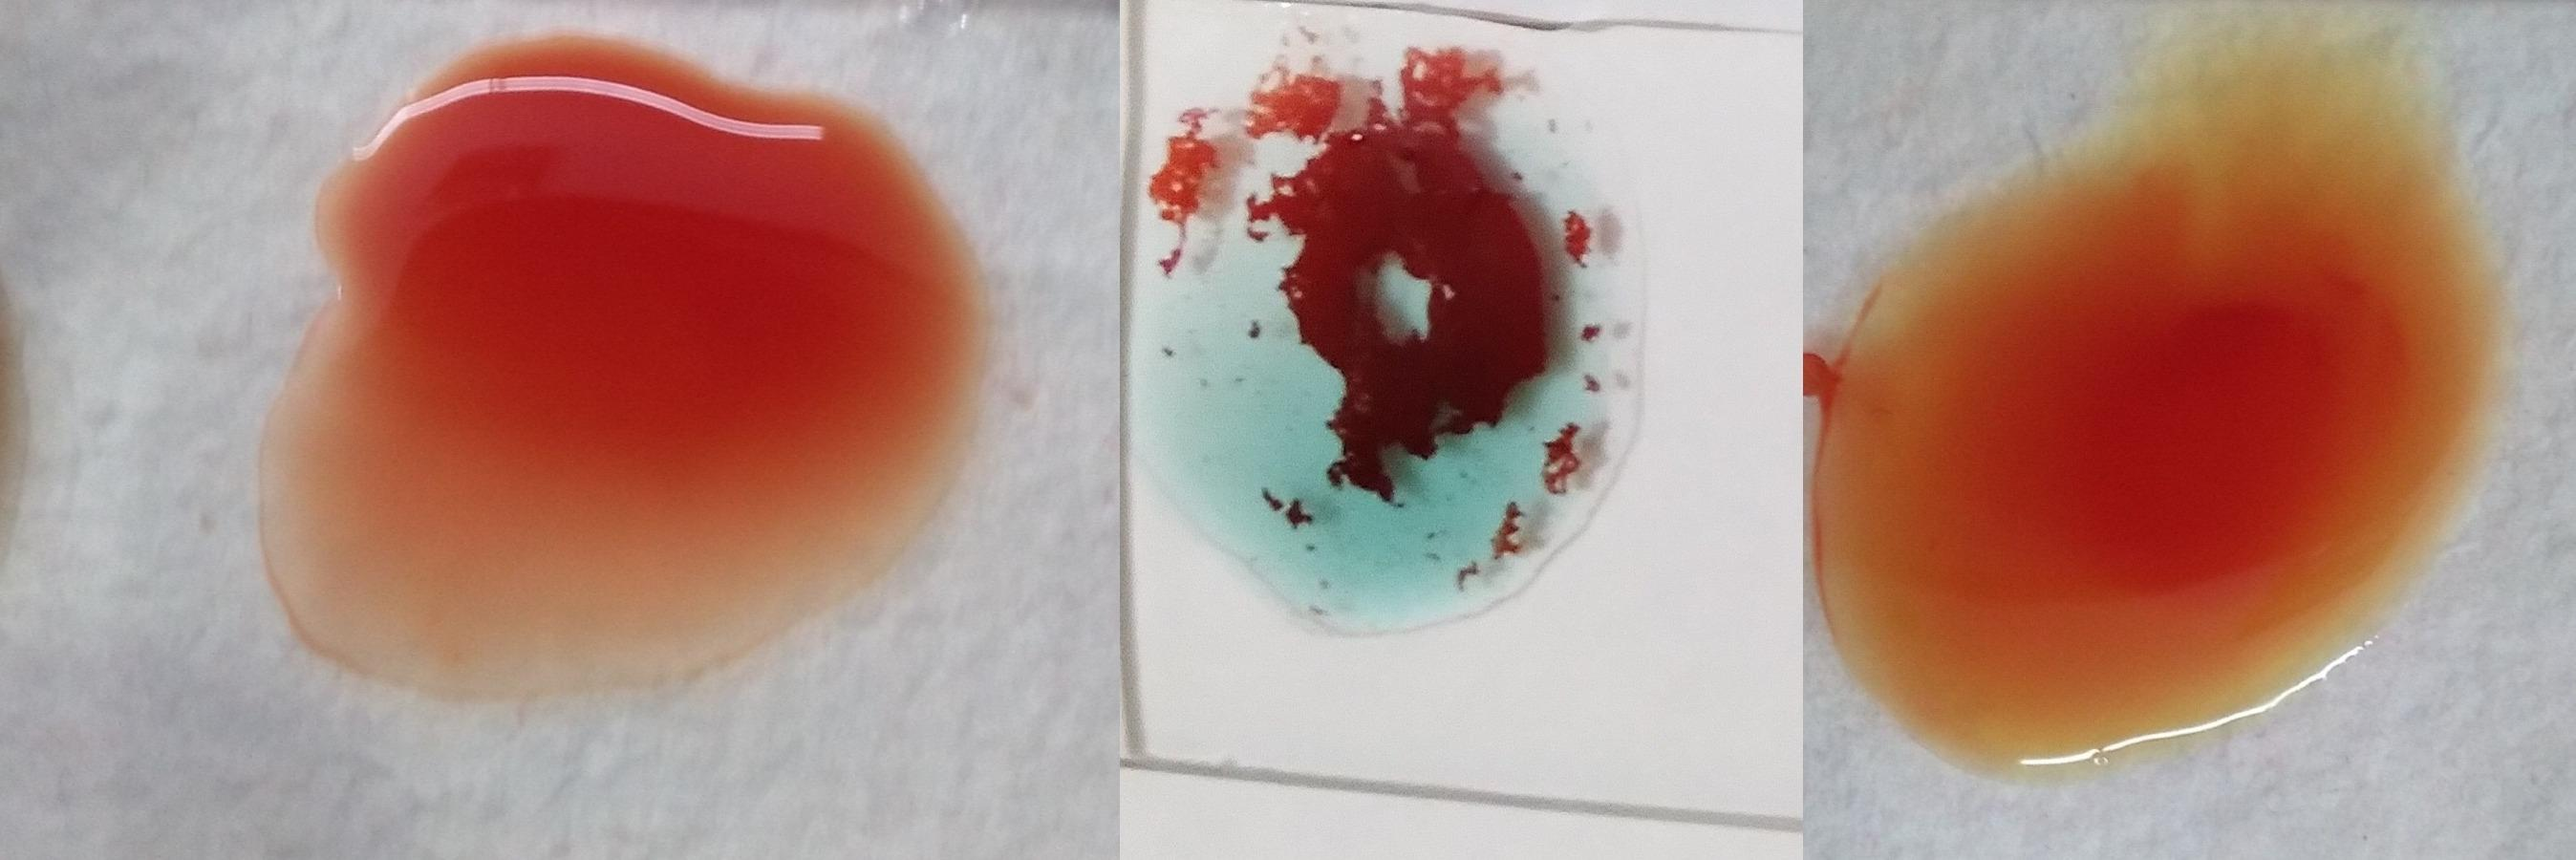A: (1142, 41, 1630, 622)
